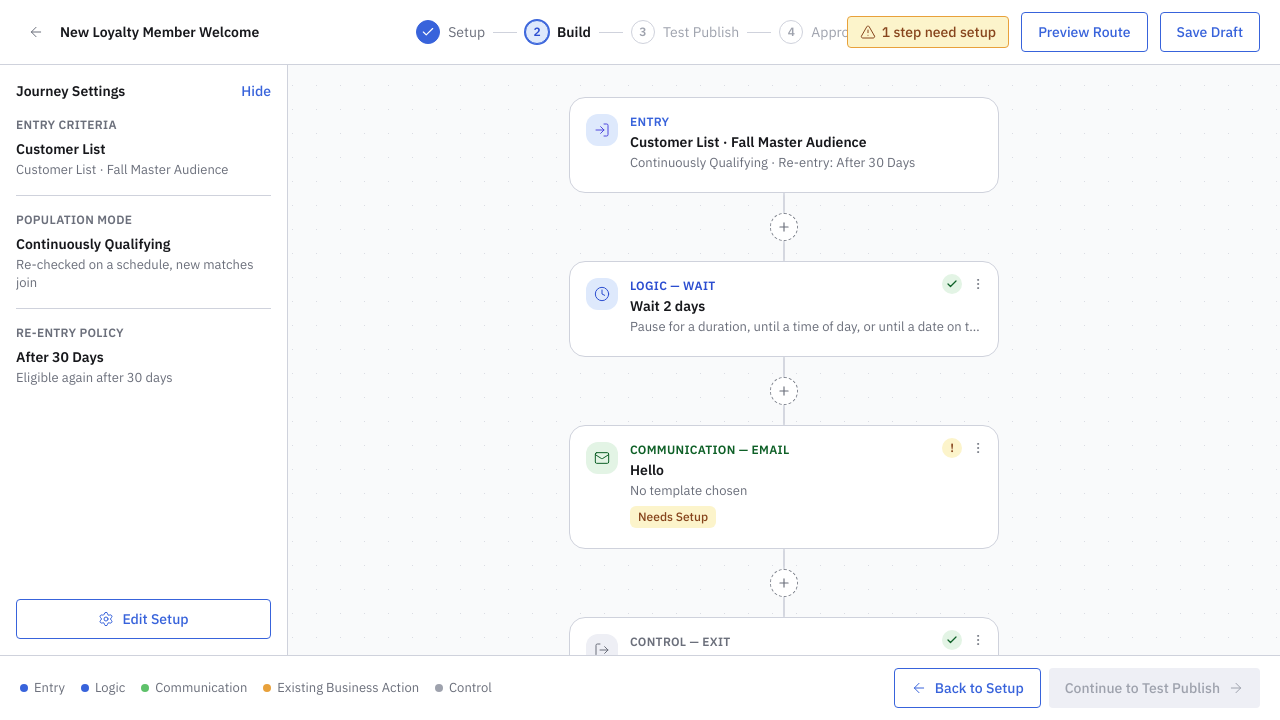
Test case: Edit Setup opens the Setup pop-up pre-filled from the journey
Step 1. Click the button "Edit Setup" → (144, 619), box [16,599,271,639]
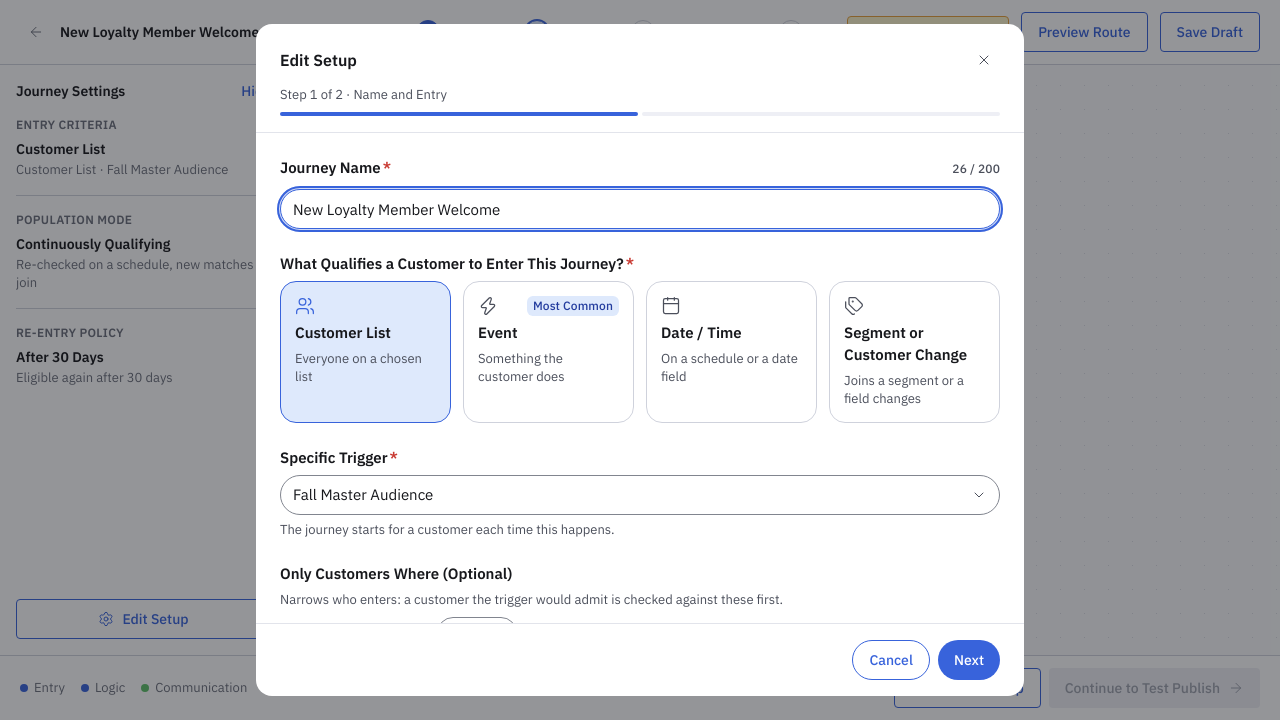
expect the field labelled "Journey Name*" holds "New Loyalty Member Welcome": met, box [280,189,1000,229]
expect the button "Fall Master Audience" is shown: met, box [280,475,1000,515]
Step 2. Click the button "Next" → (969, 660), box [938,640,1000,680]
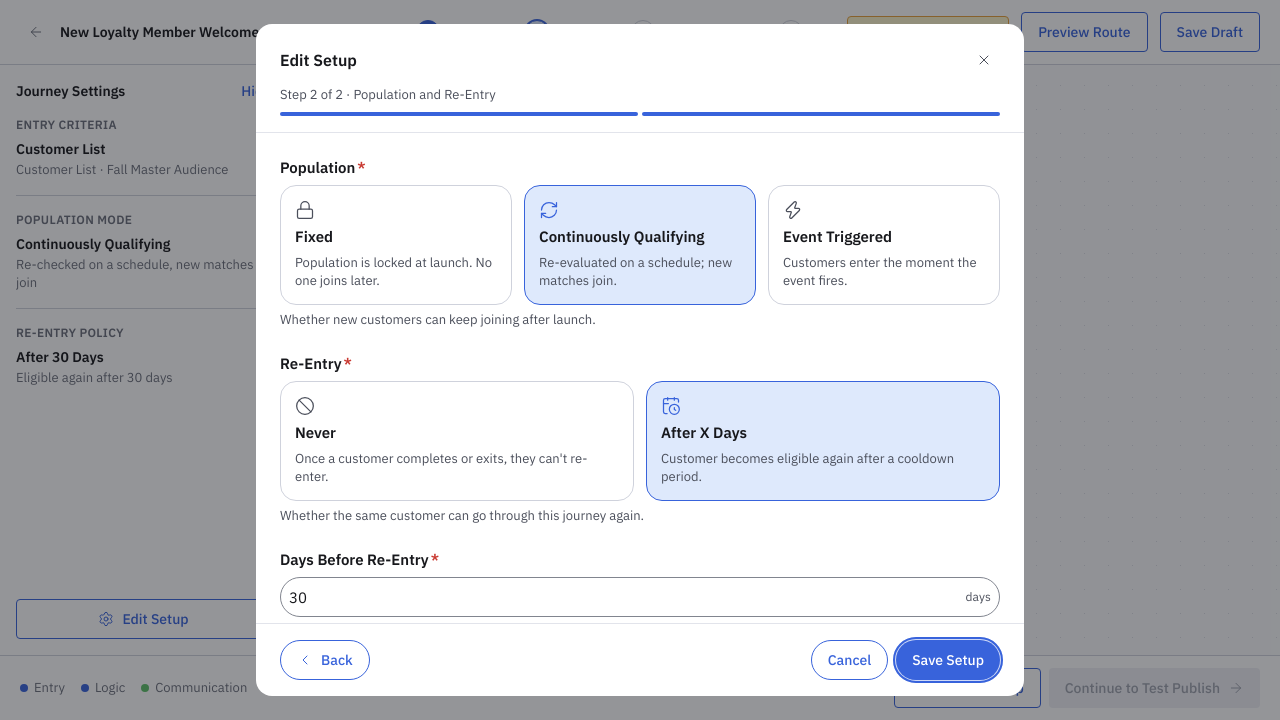
expect the number field named "Cooldown Days" holds "30": met, box [289,578,961,616]
expect the button "Save Setup" is shown: met, box [896,640,1000,680]
